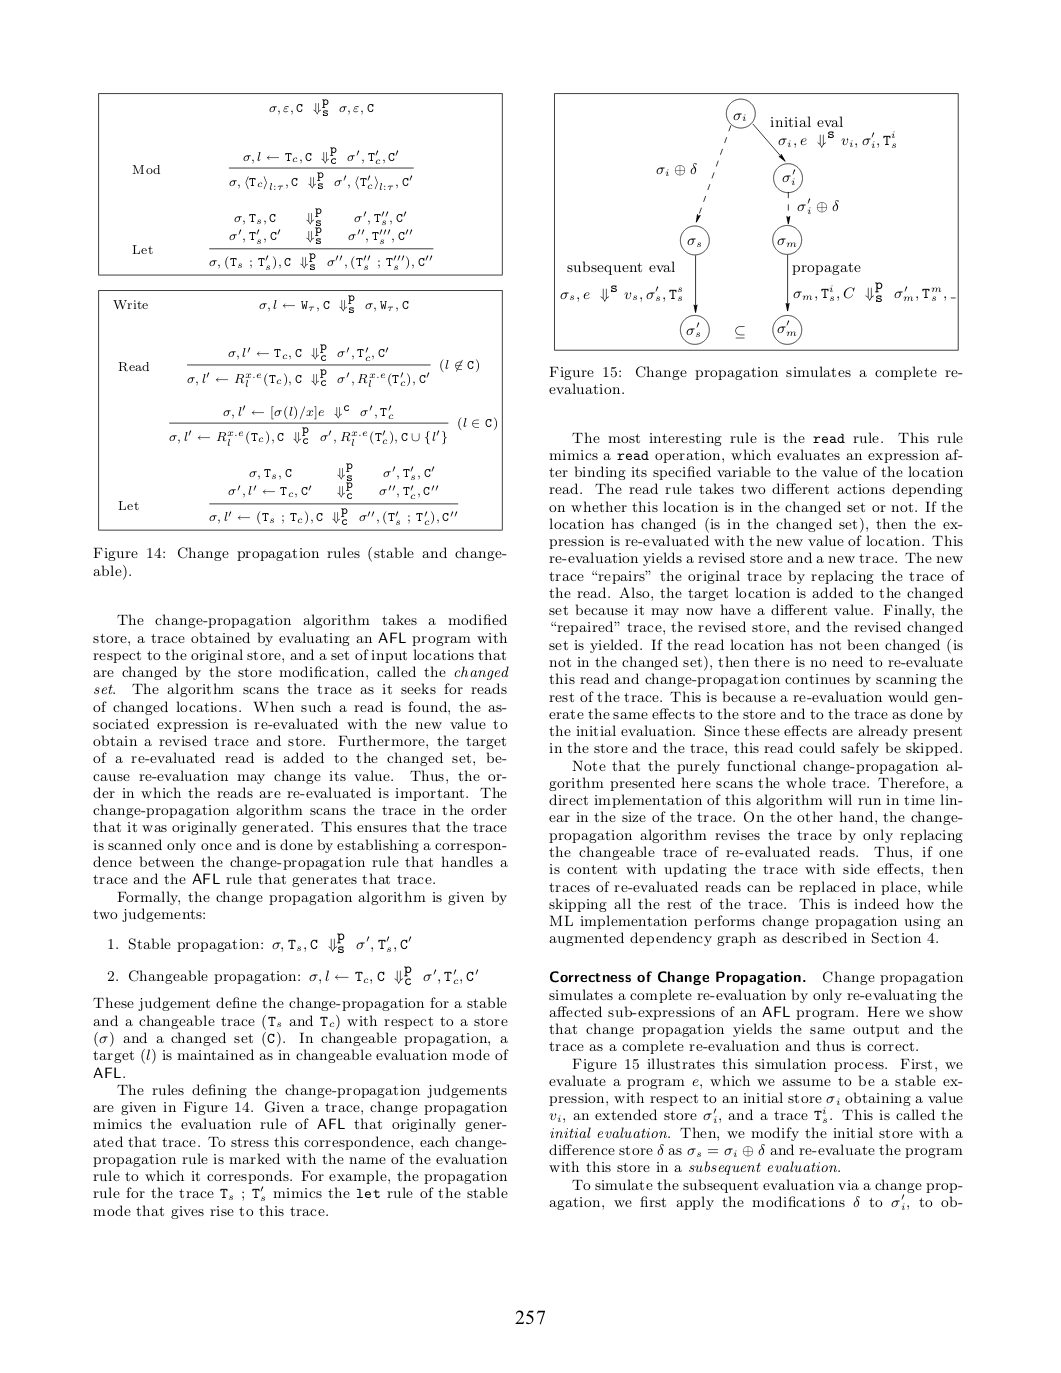figure: (554, 92, 958, 351), (98, 289, 502, 530), (98, 92, 502, 276)
